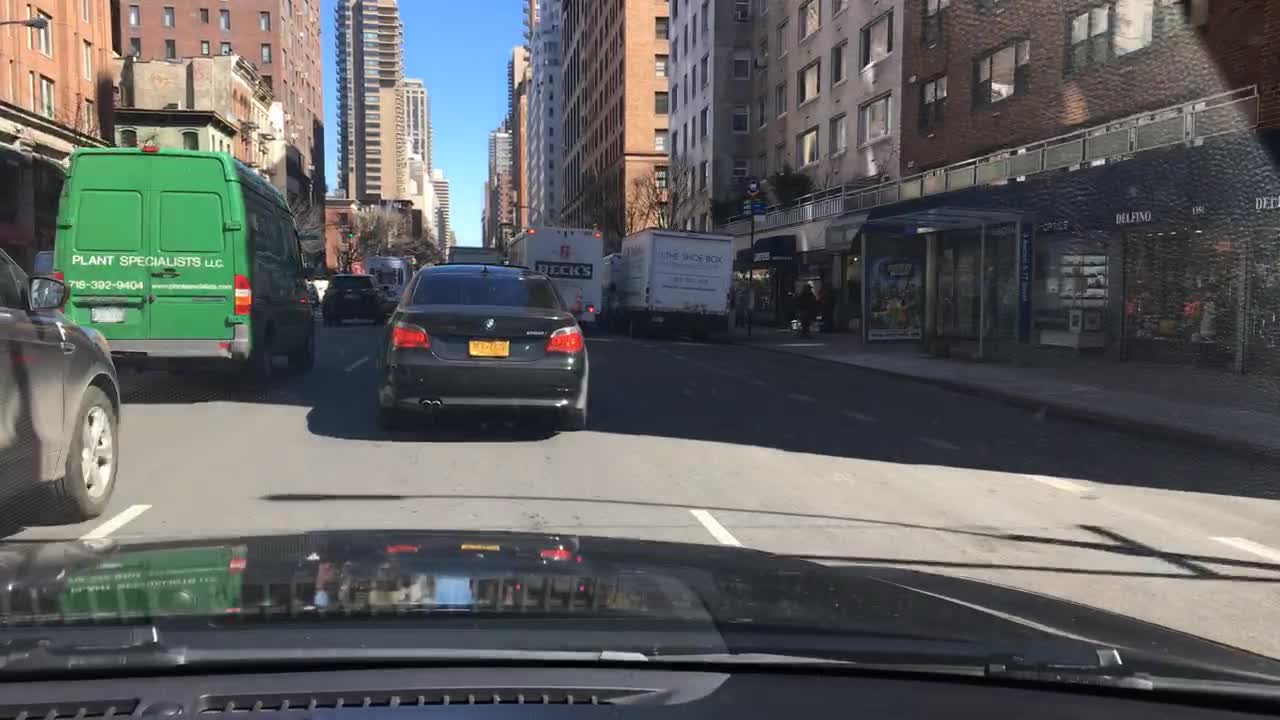car: (51, 142, 312, 387), (378, 262, 591, 434), (0, 242, 121, 528), (321, 273, 385, 331), (27, 248, 57, 320)
person: (793, 282, 824, 339), (820, 276, 838, 329)
traffic light: (346, 227, 354, 241)
traffic sign: (738, 198, 764, 217), (743, 175, 759, 193), (752, 250, 771, 262), (347, 262, 363, 271)
truck: (611, 228, 740, 345), (504, 222, 604, 332), (366, 254, 408, 301), (602, 248, 618, 310)
